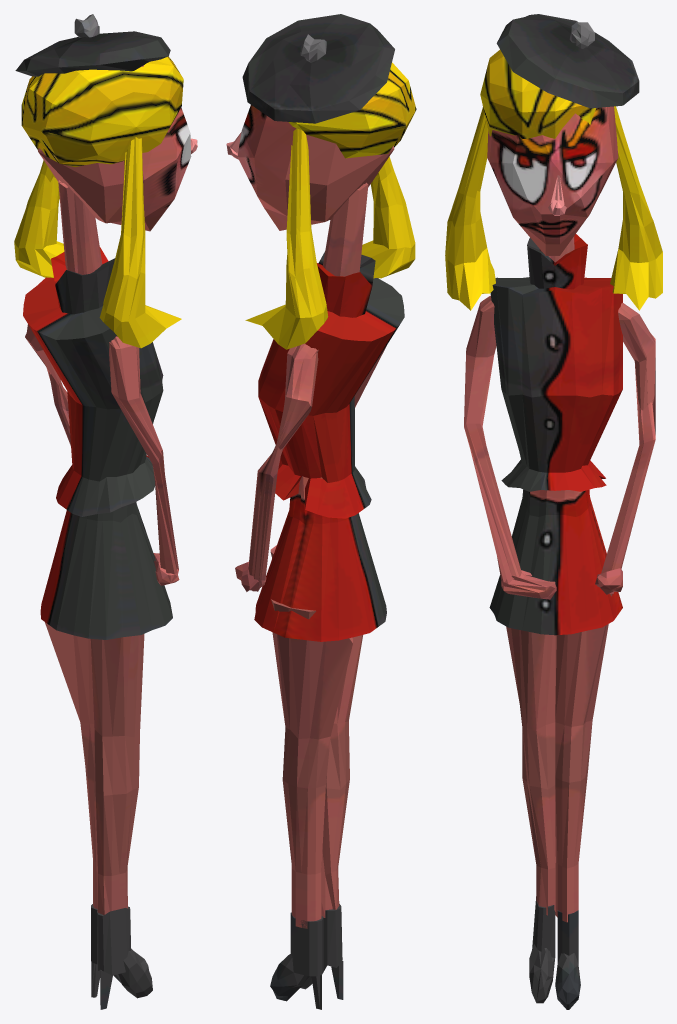
The model's file is RogaInt1.glb.
3 renders of one model, left to right at view 1: azimuth 30°, elevation 25°; view 2: azimuth 150°, elevation 25°; view 3: azimuth 270°, elevation 25°, orthographic.
Parts seen in each view (by area): view 1: RogaInt1; view 2: RogaInt1; view 3: RogaInt1.
Boxes of the visible parts, x1,y1,x2,y2 form: RogaInt1: (14, 14, 197, 1009); RogaInt1: (226, 14, 416, 1009); RogaInt1: (445, 14, 662, 1009).
Bounding box in the file's own units: 53.04 × 280 × 57.16.
Materials: 1 (1 with a texture image).
